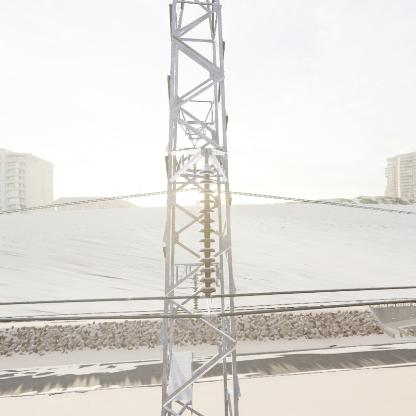insulator: (197, 166, 218, 303)
